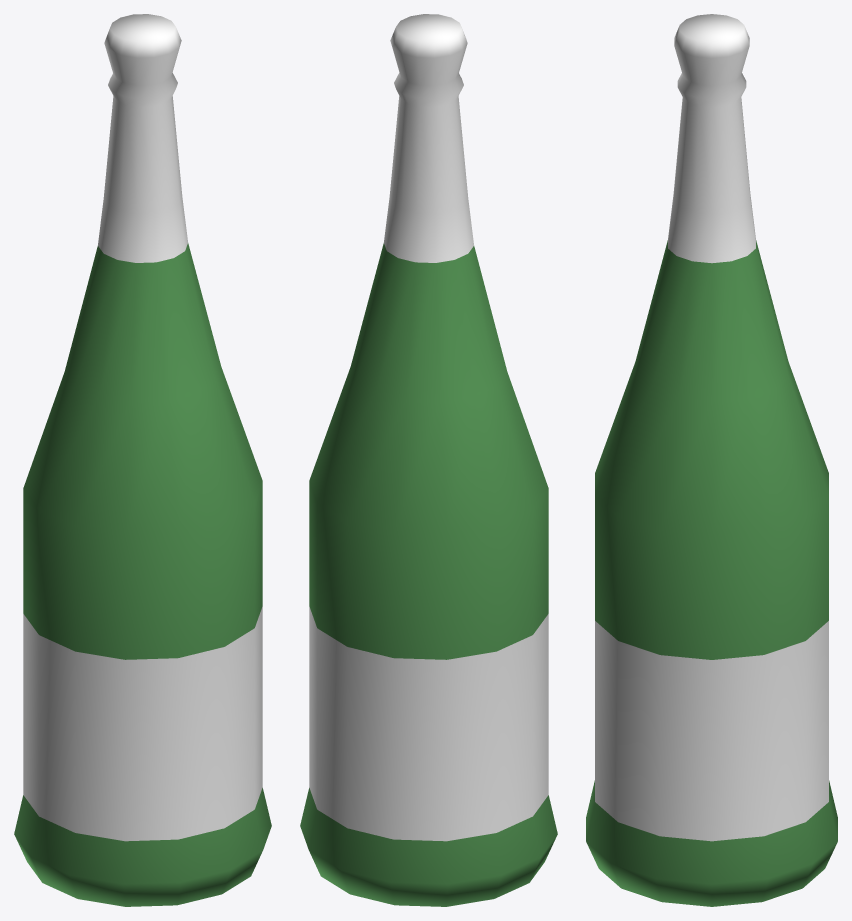
File: bottle2.fbx
The picture shows the model from 3 angles, left to right: view 1: azimuth 30°, elevation 25°; view 2: azimuth 150°, elevation 25°; view 3: azimuth 270°, elevation 25°; orthographic projection.
Parts seen in each view (by area): view 1: bottle2; view 2: bottle2; view 3: bottle2.
Part boxes in pixels (bbox=[...]): bottle2: bbox=[14, 14, 271, 906]; bottle2: bbox=[300, 14, 557, 906]; bottle2: bbox=[586, 14, 837, 906].
Bounding box in the file's own units: 8.22 × 29.13 × 8.01.
